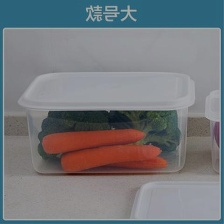plastic_box: (11, 63, 199, 180), (199, 81, 221, 177)
